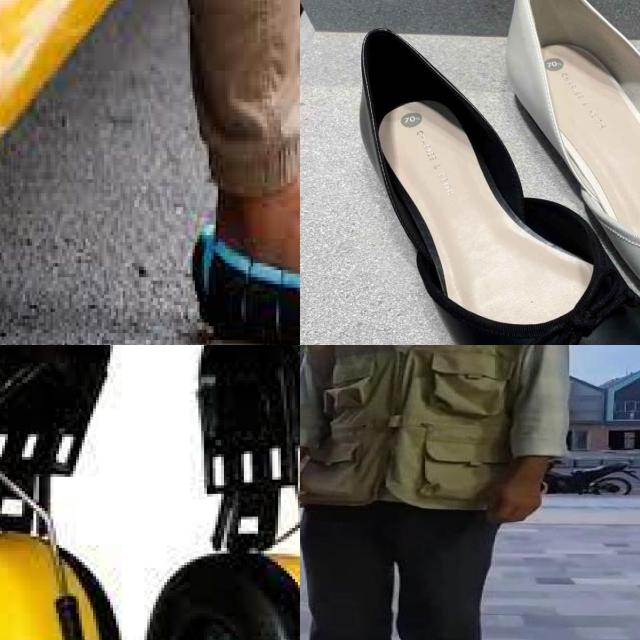Ear-protection: (0, 345, 300, 640)
Sandals: (336, 19, 640, 345), (485, 0, 640, 345), (189, 137, 300, 345)
hand_noglove: (467, 446, 565, 531), (300, 434, 319, 512)
person: (300, 345, 572, 640)
